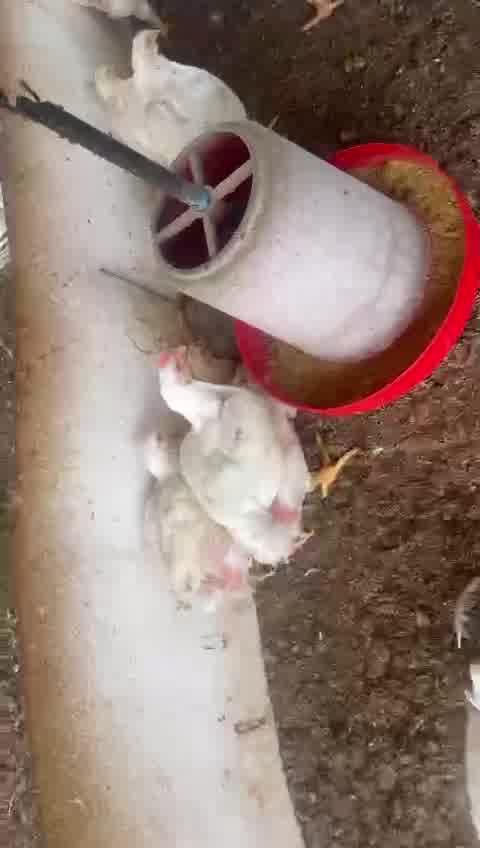Normal: (152, 347, 354, 548), (140, 439, 289, 607), (130, 29, 250, 125)
